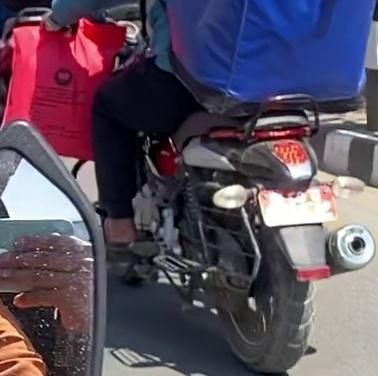license-plate: (256, 184, 340, 228)
